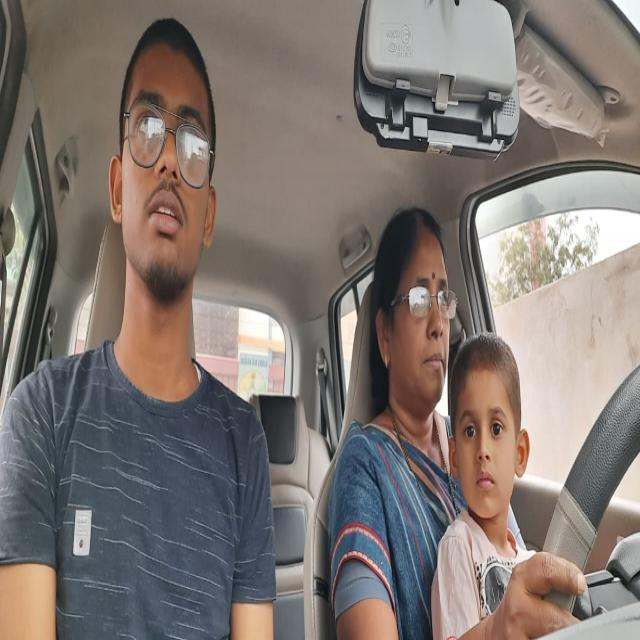child: (452, 352, 527, 499)
person: (104, 6, 220, 279), (372, 202, 451, 401)
